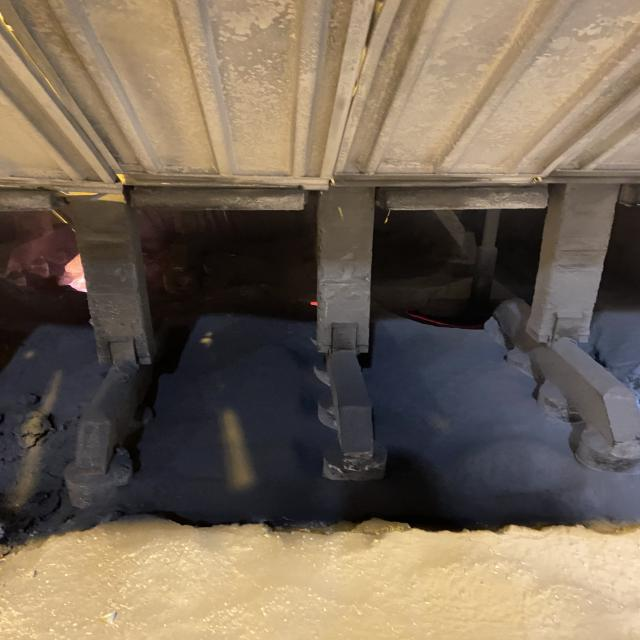Blackspot: (422, 299, 469, 313)
Redspot: (407, 313, 449, 327), (310, 302, 318, 305)
